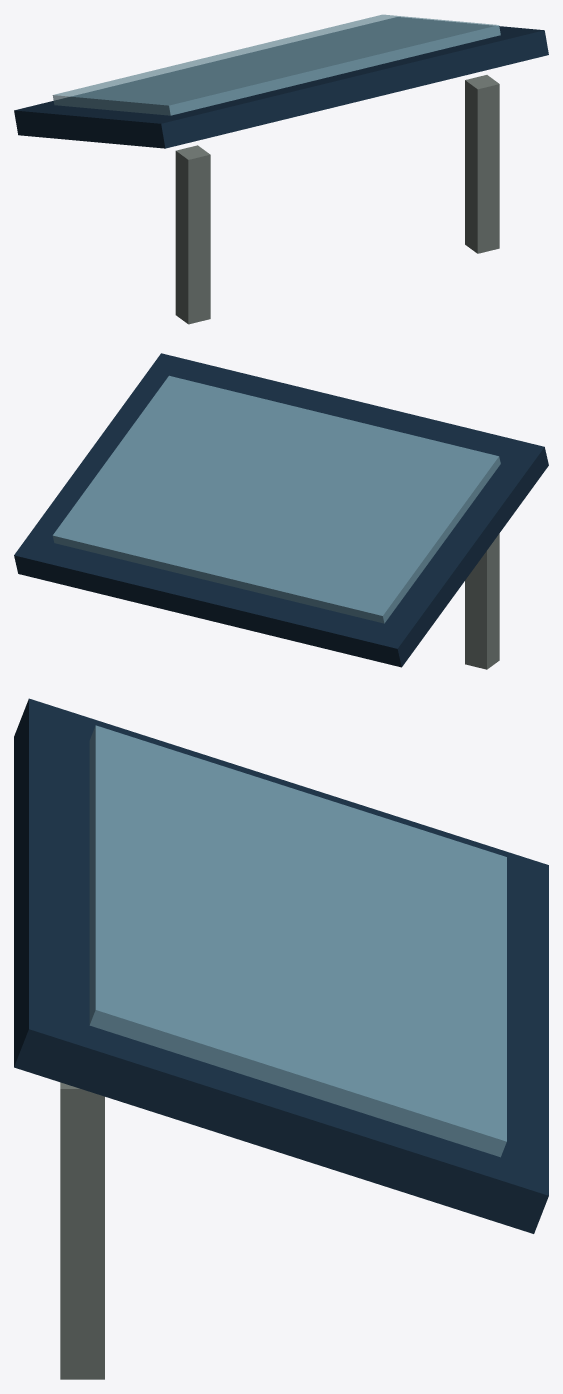
The model's file is component-solar-panel.meshopt.glb.
3 views of the same model, one above another, from view 1: azimuth 30°, elevation 25°; view 2: azimuth 150°, elevation 25°; view 3: azimuth 270°, elevation 25° (orthographic). The views are drawn at different scales.
Parts seen in each view (by area): view 1: solar_panel, solar_glass, left_leg, right_leg; view 2: solar_panel, solar_glass, left_leg; view 3: solar_panel, solar_glass, right_leg.
Part boxes in pixels (box(x1,y1,x2,y2)): solar_panel: box(14, 17, 548, 148); solar_glass: box(52, 14, 500, 115); left_leg: box(175, 145, 210, 324); right_leg: box(465, 75, 499, 253); solar_panel: box(14, 353, 548, 667); solar_glass: box(52, 375, 500, 623); left_leg: box(465, 533, 499, 669); solar_panel: box(14, 698, 548, 1233); solar_glass: box(89, 725, 506, 1157); right_leg: box(60, 1082, 104, 1379).
Bounding box in the file's own units: 1.22 × 0.6564 × 0.8341.
